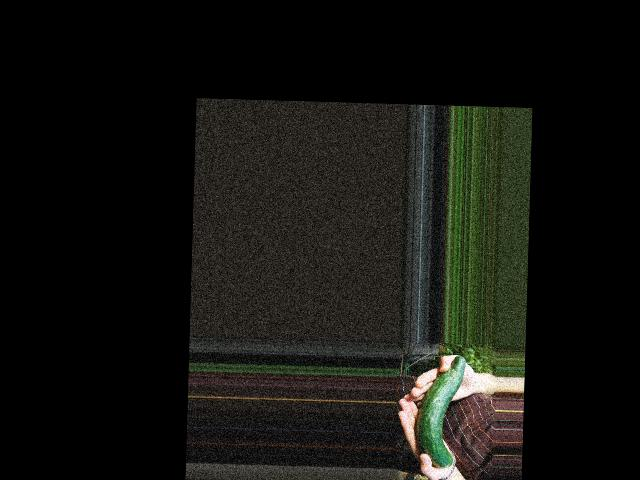cucumber: (415, 355, 465, 469)
